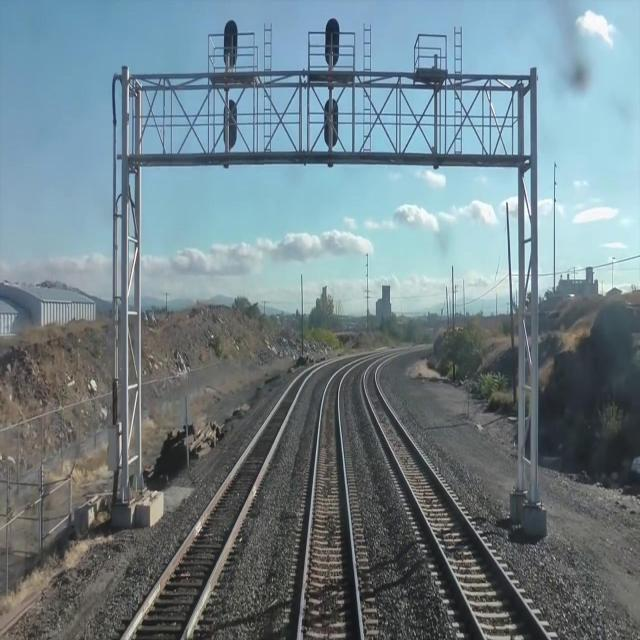rail-track: (366, 365, 545, 639), (126, 375, 305, 639), (301, 372, 359, 639)
